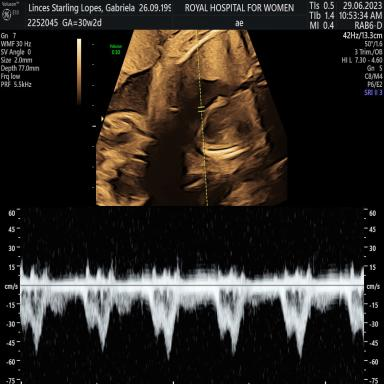Ultrasound-Waves: (22, 211, 363, 378)
